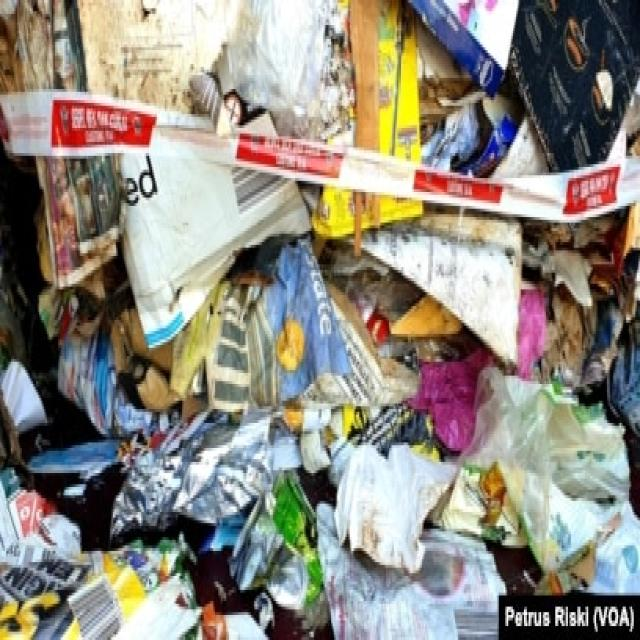Kertas: (37, 22, 560, 562)
